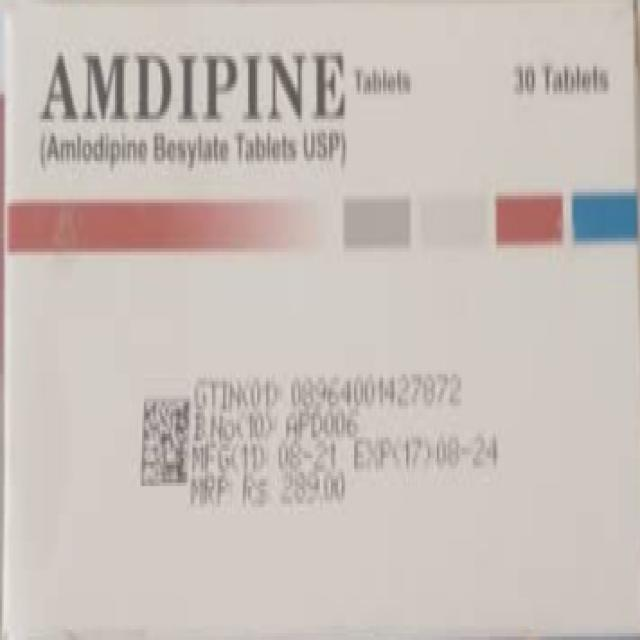drug-name: (37, 50, 349, 118)
